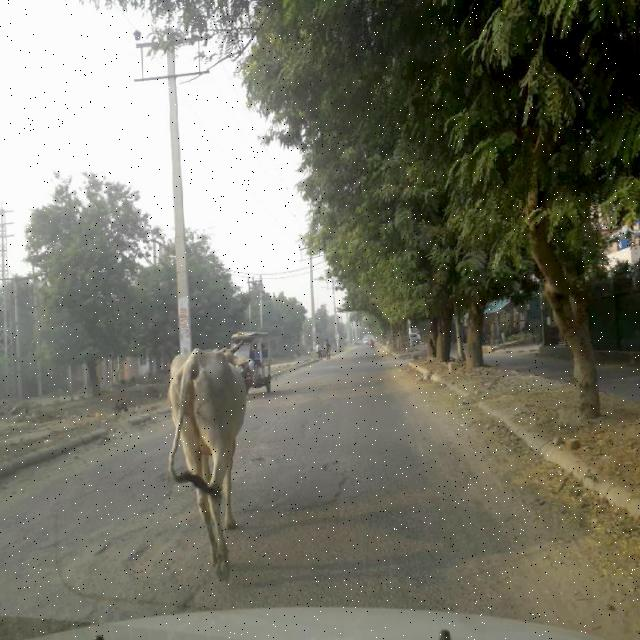D40: (87, 511, 181, 582)
